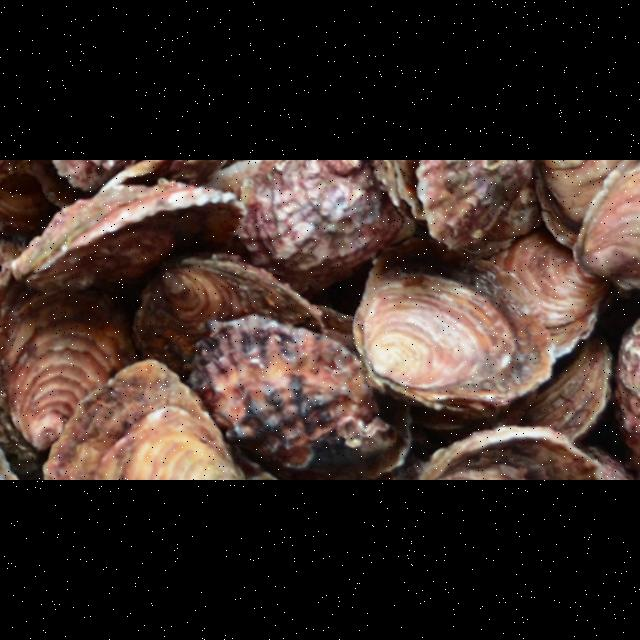Oyster-Closed: (356, 240, 556, 417), (185, 316, 395, 473), (204, 160, 411, 298), (7, 179, 245, 293), (268, 308, 413, 480), (41, 361, 249, 480), (136, 254, 324, 383), (0, 287, 140, 445), (479, 229, 611, 360), (522, 331, 612, 448), (414, 427, 605, 480), (534, 160, 638, 249), (574, 160, 639, 288), (463, 184, 541, 251), (614, 323, 639, 475)
Oyster-Open: (393, 160, 532, 250), (25, 160, 128, 205)
